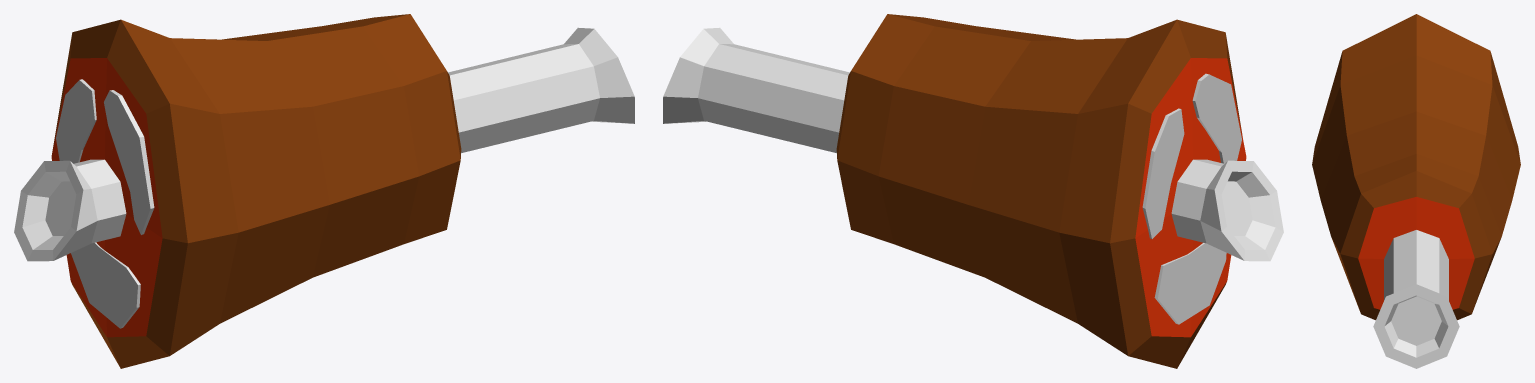
The model's file is Lamb.fbx.
3 views of the same model, side by side, from view 1: azimuth 30°, elevation 25°; view 2: azimuth 150°, elevation 25°; view 3: azimuth 270°, elevation 25° (orthographic). The views are drawn at different scales.
Parts seen in each view (by area): view 1: Cube.022; view 2: Cube.022; view 3: Cube.022.
Boxes of the visible parts, x1,y1,x2,y2 form: Cube.022: [14, 14, 634, 368]; Cube.022: [663, 14, 1283, 368]; Cube.022: [1312, 14, 1520, 368].
Size of the model in its own units: 186 by 105 by 75.19.
